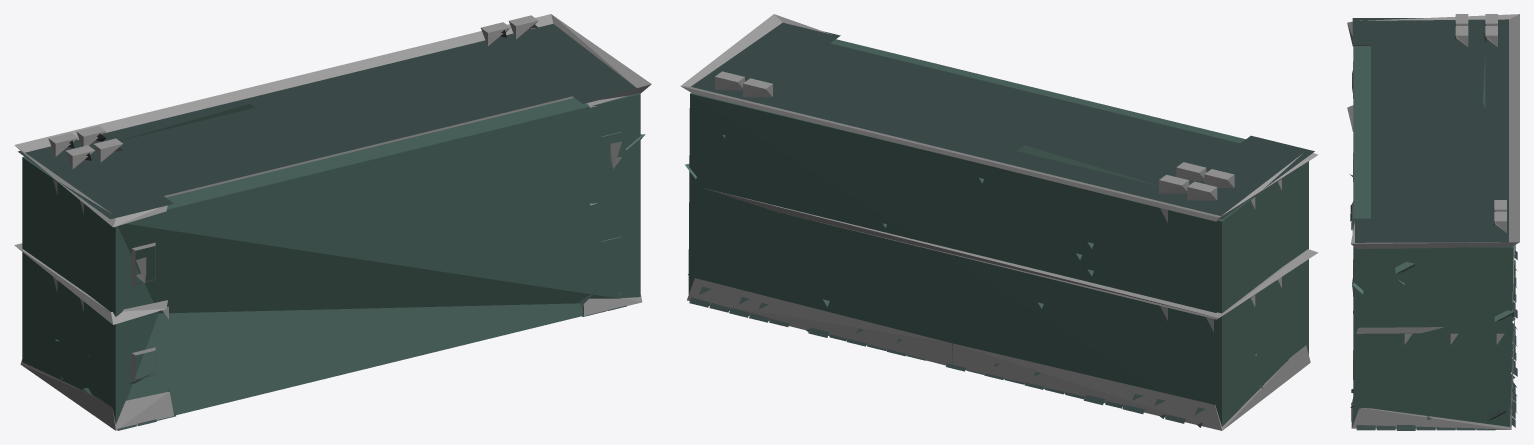
The model's file is 2Story_Wide_2Doors_lod.glb.
3 views of the same model, side by side, from view 1: azimuth 30°, elevation 25°; view 2: azimuth 150°, elevation 25°; view 3: azimuth 270°, elevation 25° (orthographic). The views are drawn at different scales.
Visible parts, largest first — view 1: 2Story_Wide_2Doors_Mat; view 2: 2Story_Wide_2Doors_Mat; view 3: 2Story_Wide_2Doors_Mat.
Boxes of the visible parts, <box> form: 2Story_Wide_2Doors_Mat: <box>14,14,651,430</box>; 2Story_Wide_2Doors_Mat: <box>680,14,1318,430</box>; 2Story_Wide_2Doors_Mat: <box>1347,14,1519,430</box>.
Size of the model in its own units: 6.79 by 2.72 by 2.15.
